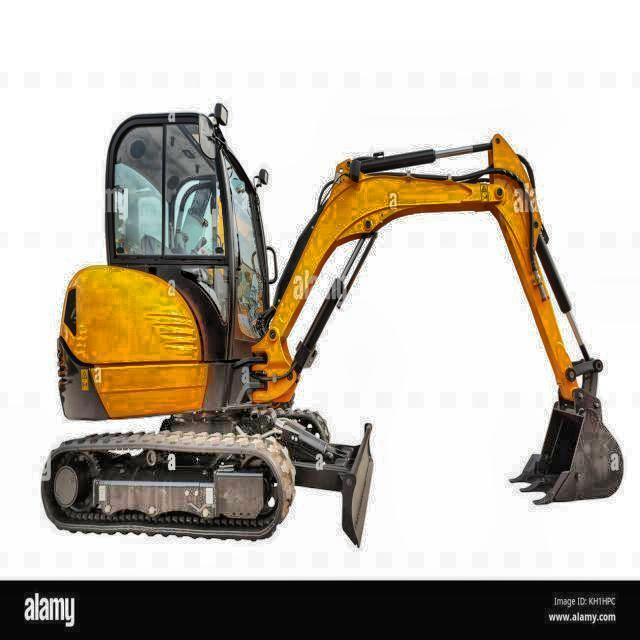excavator: (41, 101, 626, 550)
